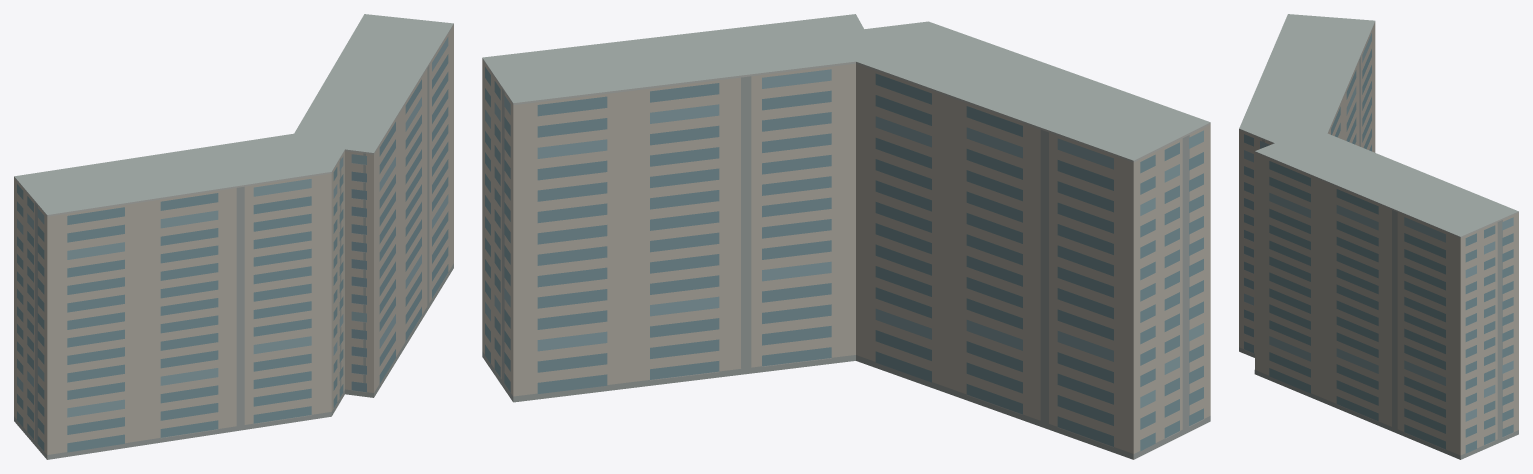
Rendered from residential-ea8a3b09-5236-4d8e-915c-930d80d7388a.glb.
The picture shows the model from 3 angles, left to right: view 1: azimuth 30°, elevation 25°; view 2: azimuth 150°, elevation 25°; view 3: azimuth 270°, elevation 25°; orthographic projection. The views are drawn at different scales.
Parts seen in each view (by area): view 1: residential-ea8a3b09-5236-4d8e-915c-930d80d7388a.tmp; view 2: residential-ea8a3b09-5236-4d8e-915c-930d80d7388a.tmp; view 3: residential-ea8a3b09-5236-4d8e-915c-930d80d7388a.tmp.
Boxes of the visible parts, x1,y1,x2,y2 form: residential-ea8a3b09-5236-4d8e-915c-930d80d7388a.tmp: (14,14,453,459); residential-ea8a3b09-5236-4d8e-915c-930d80d7388a.tmp: (482,14,1210,459); residential-ea8a3b09-5236-4d8e-915c-930d80d7388a.tmp: (1239,14,1518,459).
Bounding box in the file's own units: 79.29 × 37 × 42.06.
